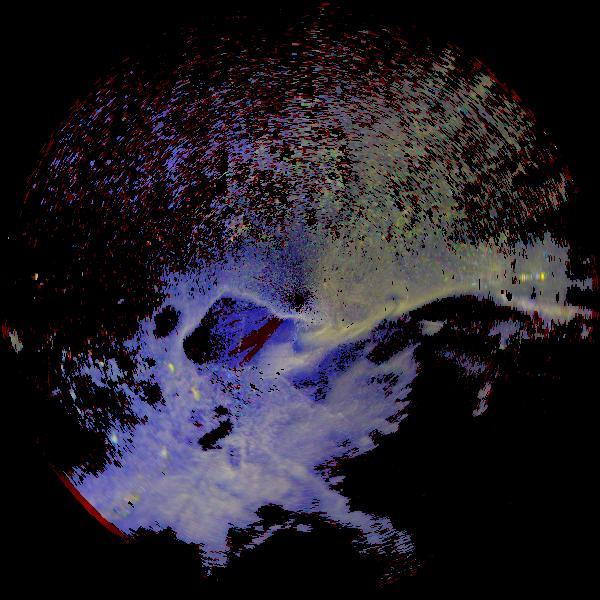roost: (163, 361, 178, 376)
